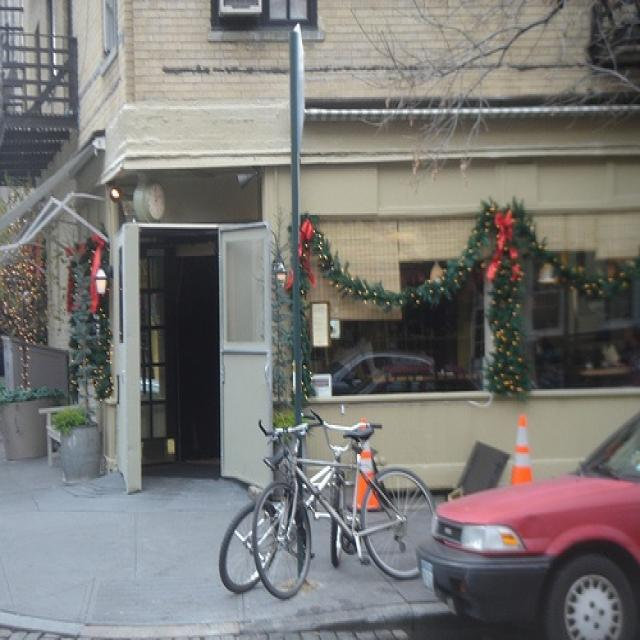bicycle: (250, 417, 440, 602), (218, 404, 385, 596)
car: (414, 408, 638, 638)
